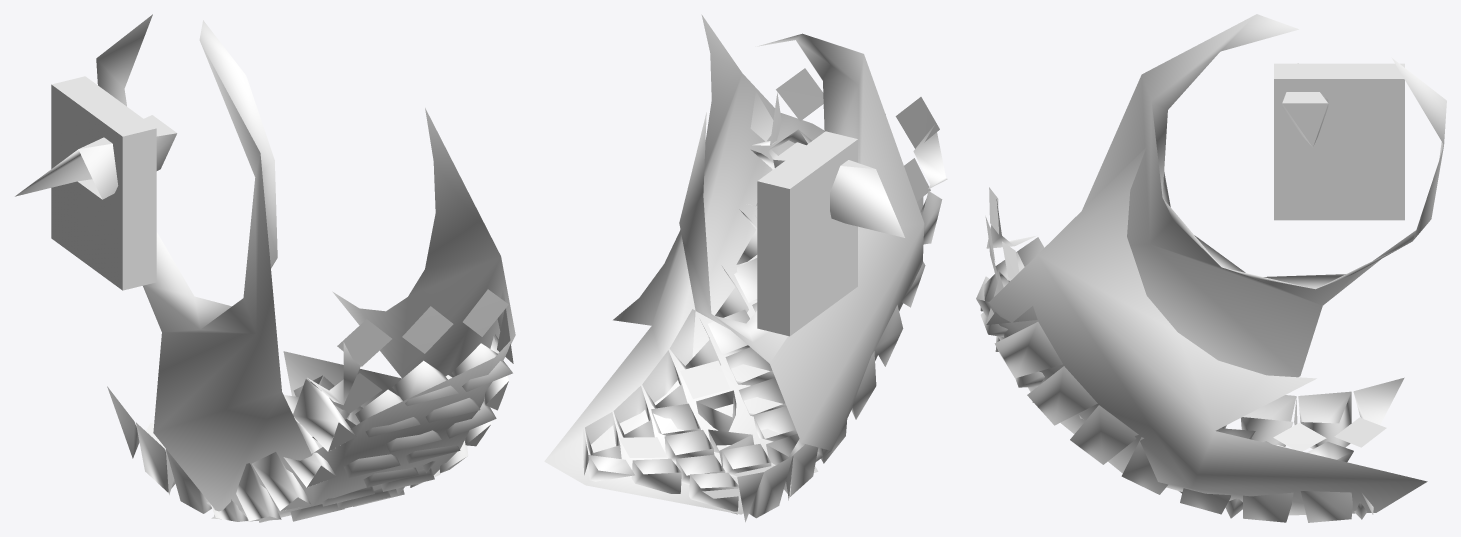
3 renders of one model, left to right at view 1: azimuth 30°, elevation 25°; view 2: azimuth 150°, elevation 25°; view 3: azimuth 270°, elevation 25°, orthographic. The views are drawn at different scales.
Size of the model in its own units: 0.7116 by 0.9983 by 0.9614.
Materials: 1 (1 with a texture image).
